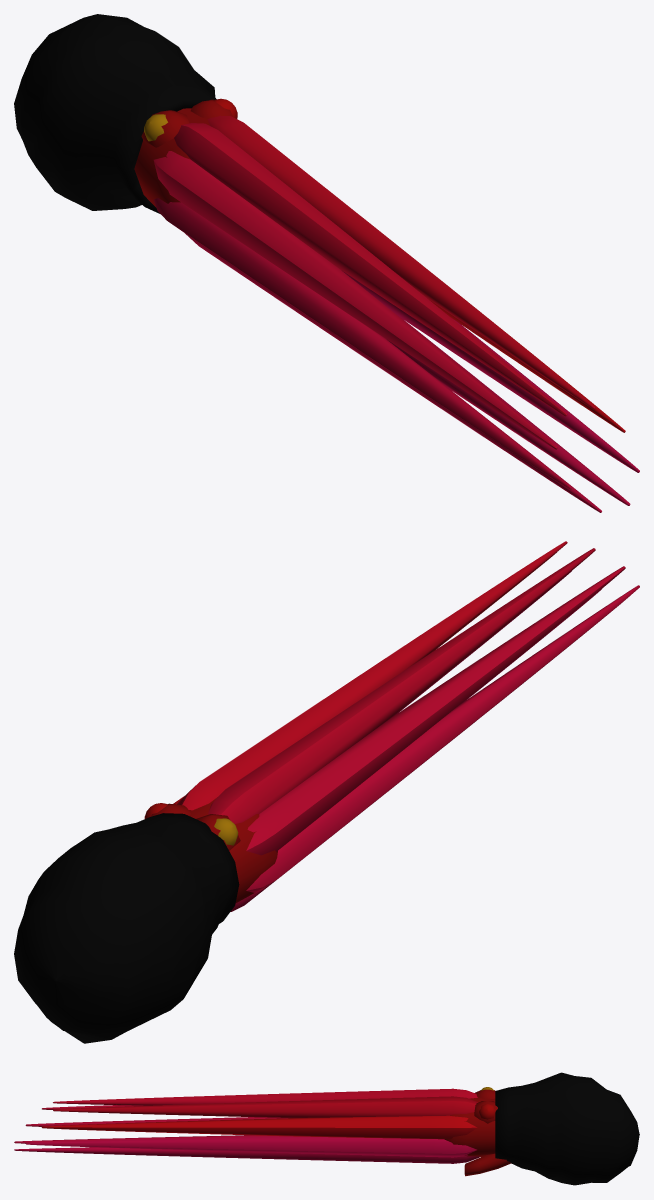
File: giant_pacific_octopus_lo.glb
The picture shows the model from 3 angles, top to bottom: view 1: azimuth 30°, elevation 25°; view 2: azimuth 150°, elevation 25°; view 3: azimuth 270°, elevation 25°; orthographic projection. The views are drawn at different scales.
Parts seen in each view (by area): view 1: giant_pacific_octopus_lo; view 2: giant_pacific_octopus_lo; view 3: giant_pacific_octopus_lo.
Part boxes in pixels (left/top/right/bottom): giant_pacific_octopus_lo: left=14, top=14, right=639, bottom=512; giant_pacific_octopus_lo: left=14, top=541, right=639, bottom=1043; giant_pacific_octopus_lo: left=14, top=1072, right=639, bottom=1185.
Bounding box in the file's own units: 0.3885 × 0.4322 × 2.39.
